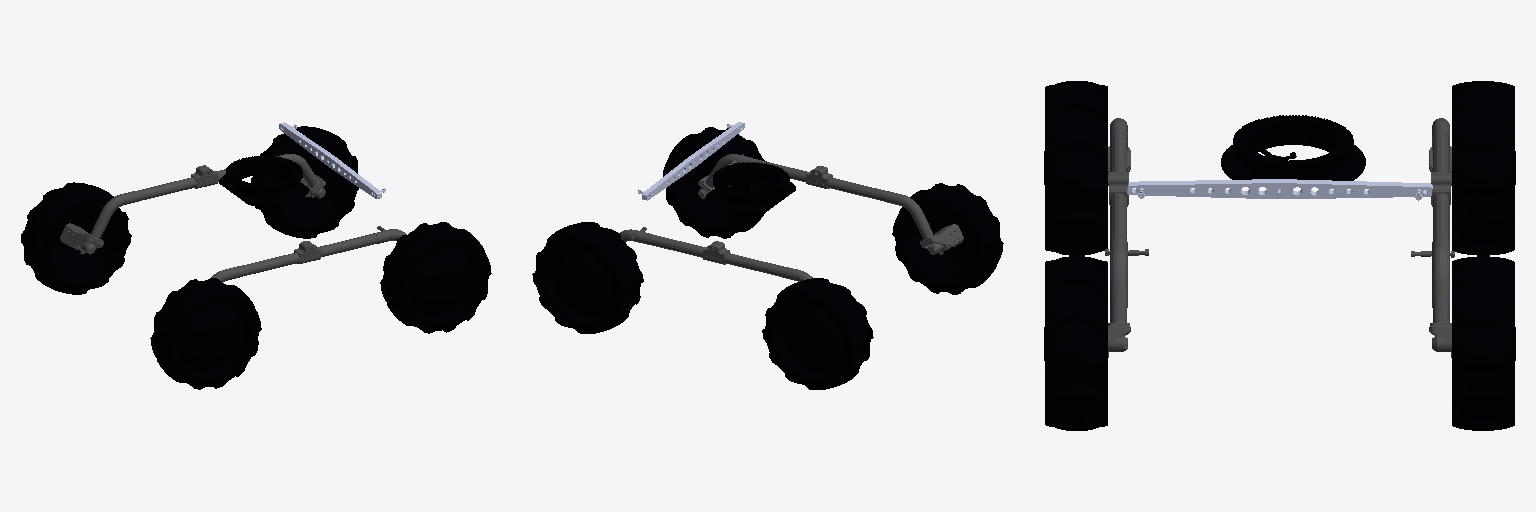
The robot description file, URDF, robot "core_rover_description":
<?xml version="1.0" encoding="utf-8"?>
<!-- This URDF was automatically created by SolidWorks to URDF Exporter! Originally created by [author] ([email redacted]) 
     Commit Version:   Build Version: 1.6.9403.28032
     For more information, please see http://wiki.ros.org/sw_urdf_exporter -->
<robot
  name="core_rover_description">

  <link name="dummy_base_link"/>

  <joint name="dummy_base_link_joint" type="fixed">
    <parent link="dummy_base_link"/>
    <child link="base_link"/>
    <origin xyz="0 0 0.38" rpy="0 0 1.5707963267948966"/>
    <axis xyz="0 0 0"/>
  </joint>

  <link
    name="base_link">
    <inertial>
      <origin
        xyz="-6.65913085716885E-06 0.109571969438869 -0.0865730790907174"
        rpy="0 0 0" />
      <mass
        value="75.3855391061812" />
      <inertia
        ixx="2.40019927956544"
        ixy="0.000116237424420155"
        ixz="-0.00156114013755156"
        iyy="2.05138658583389"
        iyz="0.00559155518698155"
        izz="4.26537268155378" />
    </inertial>
    <visual>
      <origin
        xyz="0 0 0"
        rpy="0 0 0" />
      <geometry>
        <mesh
          filename="package://core_rover_description/meshes/base_link.STL" />
      </geometry>
      <material
        name="">
        <color
          rgba="0.01764195448412081 0.013702083043526807 0.030713443727452196 1" />
      </material>
    </visual>
    <collision>
      <origin
        xyz="0 0 0"
        rpy="0 0 0" />
      <geometry>
        <mesh
          filename="package://core_rover_description/meshes/base_link.STL" />
      </geometry>
    </collision>
  </link>

  <link
    name="right_suspension_member">
    <inertial>
      <origin
        xyz="0.0011302 -0.12483 0.029359"
        rpy="0 0 0" />
      <mass
        value="1.7681" />
      <inertia
        ixx="0.0021448"
        ixy="-1.4957E-06"
        ixz="-2.5225E-08"
        iyy="0.0068473"
        iyz="0.00021191"
        izz="0.0058417" />
    </inertial>
    <visual>
      <origin
        xyz="0 0 0"
        rpy="0 0 0" />
      <geometry>
        <mesh
          filename="package://core_rover_description/meshes/right_suspension_member.STL" />
      </geometry>
      <material
        name="">
        <color
          rgba="0.35 0.35 0.35 1" />
      </material>
    </visual>
    <collision>
      <origin
        xyz="0 0 0"
        rpy="0 0 0" />
      <geometry>
        <mesh
          filename="package://core_rover_description/meshes/right_suspension_member.STL" />
      </geometry>
    </collision>
  </link>

  <joint
    name="right_suspension_joint"
    type="revolute">
    <origin
      xyz="-0.33067 0.028531 -0.15443"
      rpy="1.5708 0 -1.5708" />
    <parent
      link="base_link" />
    <child
      link="right_suspension_member" />
    <axis
      xyz="0 0 -1" />
    <limit
      lower="-0.38"
      upper="0.38"
      effort="0"
      velocity="0" />
    <mimic
      joint="left_suspension_joint"
      multiplier="1"
      offset="0" />
  </joint>

  <link
    name="br_wheel">
    <inertial>
      <origin
        xyz="-0.0476013497459569 -1.09801088221673E-08 6.12845485470359E-09"
        rpy="0 0 0" />
      <mass
        value="5.74175792756056" />
      <inertia
        ixx="0.115468209215025"
        ixy="7.19767266741869E-10"
        ixz="-2.90603405999934E-10"
        iyy="0.0647068246341468"
        iyz="7.16669744358495E-07"
        izz="0.0632464587169257" />
    </inertial>
    <visual>
      <origin
        xyz="0 0 0"
        rpy="0 0 0" />
      <geometry>
        <mesh
          filename="package://core_rover_description/meshes/br_wheel.STL" />
      </geometry>
      <material
        name="">
        <color
          rgba="0.01764195448412081 0.013702083043526807 0.030713443727452196 1" />
      </material>
    </visual>
    <collision>
      <origin
        xyz="0 0 0"
        rpy="0 0 0" />
      <geometry>
        <mesh
          filename="package://core_rover_description/meshes/br_wheel.STL" />
      </geometry>
    </collision>
  </link>

  <joint
    name="br_wheel_joint"
    type="continuous">
    <origin
      xyz="-0.41838 -0.17155 0.12984"
      rpy="0.52965 -1.5708 0" />
    <parent
      link="right_suspension_member" />
    <child
      link="br_wheel" />
    <axis
      xyz="-1 0 0" />
  </joint>

  <link
    name="fr_wheel">
    <inertial>
      <origin
        xyz="-0.0476013497450763 -1.09822306249008E-08 6.12913009234717E-09"
        rpy="0 0 0" />
      <mass
        value="5.74175792767292" />
      <inertia
        ixx="0.115468209216444"
        ixy="7.20424942594475E-10"
        ixz="-2.90800382125705E-10"
        iyy="0.0647068246345494"
        iyz="7.16670201096685E-07"
        izz="0.063246458718483" />
    </inertial>
    <visual>
      <origin
        xyz="0 0 0"
        rpy="0 0 0" />
      <geometry>
        <mesh
          filename="package://core_rover_description/meshes/fr_wheel.STL" />
      </geometry>
      <material
        name="">
        <color
          rgba="0.01764195448412081 0.013702083043526807 0.030713443727452196 1" />
      </material>
    </visual>
    <collision>
      <origin
        xyz="0 0 0"
        rpy="0 0 0" />
      <geometry>
        <mesh
          filename="package://core_rover_description/meshes/fr_wheel.STL" />
      </geometry>
    </collision>
  </link>

  <joint
    name="fr_wheel_joint"
    type="continuous">
    <origin
      xyz="0.41838 -0.17155 0.12984"
      rpy="1.5769 -1.5708 0" />
    <parent
      link="right_suspension_member" />
    <child
      link="fr_wheel" />
    <axis
      xyz="-1 0 0" />
  </joint>

  <link
    name="averaging_bar">
    <inertial>
      <origin
        xyz="5.12266309124314E-10 0.0103345512865068 6.28647148226413E-10"
        rpy="0 0 0" />
      <mass
        value="0.872230516841863" />
      <inertia
        ixx="0.000102234478668288"
        ixy="1.26173058927933E-11"
        ixz="-1.00509715989169E-11"
        iyy="0.0236921798518964"
        iyz="1.54032135551904E-11"
        izz="0.0236577000709469" />
    </inertial>
    <visual>
      <origin
        xyz="0 0 0"
        rpy="0 0 0" />
      <geometry>
        <mesh
          filename="package://core_rover_description/meshes/averaging_bar.STL" />
      </geometry>
      <material
        name="">
        <color
          rgba="0.792156862745098 0.819607843137255 0.933333333333333 1" />
      </material>
    </visual>
    <collision>
      <origin
        xyz="0 0 0"
        rpy="0 0 0" />
      <geometry>
        <mesh
          filename="package://core_rover_description/meshes/averaging_bar.STL" />
      </geometry>
    </collision>
  </link>

  <joint
    name="averaging_bar_joint"
    type="revolute">
    <origin
      xyz="0 -0.23362 -0.0508"
      rpy="0 -0.0060774 -3.1416" />
    <parent
      link="base_link" />
    <child
      link="averaging_bar" />
    <axis
      xyz="0 -1 0" />
    <limit
      lower="-0.38"
      upper="0.38"
      effort="0"
      velocity="0" />
    <mimic
      joint="left_suspension_joint"
      multiplier="-1"
      offset="0" />
  </joint>

  <link
    name="left_suspension_member">
    <inertial>
      <origin
        xyz="0 0 0"
        rpy="0 0 0" />
      <mass
        value="1.7681" />
      <inertia
        ixx="0"
        ixy="0"
        ixz="0"
        iyy="0"
        iyz="0"
        izz="0" />
    </inertial>
    <visual>
      <origin
        xyz="0 0 0"
        rpy="0 0 0" />
      <geometry>
        <mesh
          filename="package://core_rover_description/meshes/left_suspension_member.STL" />
      </geometry>
      <material
        name="">
        <color
          rgba="0.35 0.35 0.35 1" />
      </material>
    </visual>
    <collision>
      <origin
        xyz="0 0 0"
        rpy="0 0 0" />
      <geometry>
        <mesh
          filename="package://core_rover_description/meshes/left_suspension_member.STL" />
      </geometry>
    </collision>
  </link>

  <joint
    name="left_suspension_joint"
    type="revolute">
    <origin
      xyz="0.33067 0.028531 -0.15443"
      rpy="1.5708 0 1.5708" />
    <parent
      link="base_link" />
    <child
      link="left_suspension_member" />
    <axis
      xyz="0 0 -1" />
    <limit
      lower="-0.38"
      upper="0.38"
      effort="0"
      velocity="0" />
  </joint>

  <link
    name="bl_wheel">
    <inertial>
      <origin
        xyz="-0.0476013497470983 -1.09827822947217E-08 6.12940226352165E-09"
        rpy="0 0 0" />
      <mass
        value="5.7417579274106" />
      <inertia
        ixx="0.115468209213072"
        ixy="7.20585760708907E-10"
        ixz="-2.90859312873504E-10"
        iyy="0.0647068246335877"
        iyz="7.16669141063303E-07"
        izz="0.0632464587148044" />
    </inertial>
    <visual>
      <origin
        xyz="0 0 0"
        rpy="0 0 0" />
      <geometry>
        <mesh
          filename="package://core_rover_description/meshes/bl_wheel.STL" />
      </geometry>
      <material
        name="">
        <color
          rgba="0.01764195448412081 0.013702083043526807 0.030713443727452196 1" />
      </material>
    </visual>
    <collision>
      <origin
        xyz="0 0 0"
        rpy="0 0 0" />
      <geometry>
        <mesh
          filename="package://core_rover_description/meshes/bl_wheel.STL" />
      </geometry>
    </collision>
  </link>

  <joint
    name="bl_wheel_joint"
    type="continuous">
    <origin
      xyz="0.41838 -0.17155 0.12984"
      rpy="1.5769 -1.5708 0" />
    <parent
      link="left_suspension_member" />
    <child
      link="bl_wheel" />
    <axis
      xyz="1 0 0" />
  </joint>

  <link
    name="fl_wheel">
    <inertial>
      <origin
        xyz="-0.0476013497448114 -1.09827921201955E-08 6.12933048760311E-09"
        rpy="0 0 0" />
      <mass
        value="5.74175792770551" />
      <inertia
        ixx="0.115468209216877"
        ixy="7.20541990109492E-10"
        ixz="-2.90874836866816E-10"
        iyy="0.0647068246346634"
        iyz="7.16670369639572E-07"
        izz="0.06324645871897" />
    </inertial>
    <visual>
      <origin
        xyz="0 0 0"
        rpy="0 0 0" />
      <geometry>
        <mesh
          filename="package://core_rover_description/meshes/fl_wheel.STL" />
      </geometry>
      <material
        name="">
        <color
          rgba="0.01764195448412081 0.013702083043526807 0.030713443727452196 1" />
      </material>
    </visual>
    <collision>
      <origin
        xyz="0 0 0"
        rpy="0 0 0" />
      <geometry>
        <mesh
          filename="package://core_rover_description/meshes/fl_wheel.STL" />
      </geometry>
    </collision>
  </link>

  <joint
    name="fl_wheel_joint"
    type="continuous">
    <origin
      xyz="-0.418377874454344 -0.171553199039643 0.129841324042317"
      rpy="0.529654981264331 -1.5707963267949 0" />
    <parent
      link="left_suspension_member" />
    <child
      link="fl_wheel" />
    <axis
      xyz="1 0 0" />
  </joint>

</robot>

--- Render facts (derived) ---
The picture shows the robot from 3 angles, left to right: view 1: azimuth 30°, elevation 25°; view 2: azimuth 150°, elevation 25°; view 3: azimuth 270°, elevation 25°; orthographic projection.
Model core_rover_description with 9 links and 8 joints (3 revolute, 4 continuous, 1 fixed), rooted at dummy_base_link, posed every joint at zero.
Visible links, largest first — view 1: br_wheel, fr_wheel, bl_wheel, fl_wheel, left_suspension_member, base_link, right_suspension_member, averaging_bar; view 2: bl_wheel, fl_wheel, br_wheel, fr_wheel, right_suspension_member, base_link, left_suspension_member, averaging_bar; view 3: fl_wheel, bl_wheel, fr_wheel, br_wheel, base_link, averaging_bar, right_suspension_member, left_suspension_member.
Boxes of the visible links, x1,y1,x2,y2 form: br_wheel: (150, 278, 261, 389); fr_wheel: (380, 222, 491, 333); bl_wheel: (21, 182, 131, 294); fl_wheel: (251, 126, 358, 238); left_suspension_member: (60, 154, 325, 254); base_link: (219, 155, 309, 205); right_suspension_member: (211, 226, 406, 282); averaging_bar: (279, 122, 385, 198); bl_wheel: (762, 278, 873, 389); fl_wheel: (532, 222, 643, 333); br_wheel: (892, 183, 1003, 294); fr_wheel: (663, 127, 771, 238); right_suspension_member: (698, 154, 963, 254); base_link: (706, 162, 795, 212); left_suspension_member: (619, 227, 812, 281); averaging_bar: (638, 122, 744, 200); fl_wheel: (1452, 256, 1515, 430); bl_wheel: (1452, 81, 1515, 255); fr_wheel: (1044, 256, 1107, 430); br_wheel: (1044, 81, 1107, 255); base_link: (1221, 115, 1365, 180); averaging_bar: (1127, 179, 1432, 200); right_suspension_member: (1105, 118, 1148, 357); left_suspension_member: (1411, 118, 1454, 357).
Bounding box of the posed robot: 1.19 × 0.9497 × 0.467 m (x, y, z).
Meshes: 8 distinct files referenced, 8 mesh visuals loaded (8 binary STL).